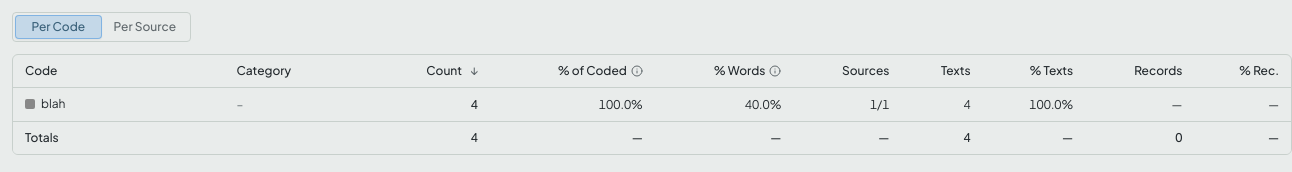
Test: the source-kind label is a total map, not a ternary chain › names text_column in the Per Source table
The width and height of the screenshot is (1292, 172).
Step 1. Click the tab "Per Source" → (145,27), box left=102, top=15, right=188, bottom=39
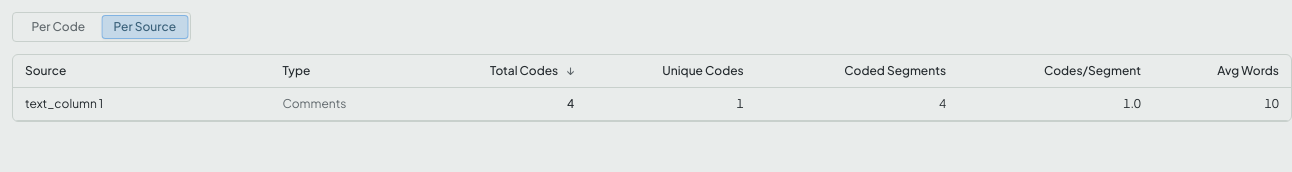
Now the cell "Comments" is shown, box left=270, top=88, right=412, bottom=120
